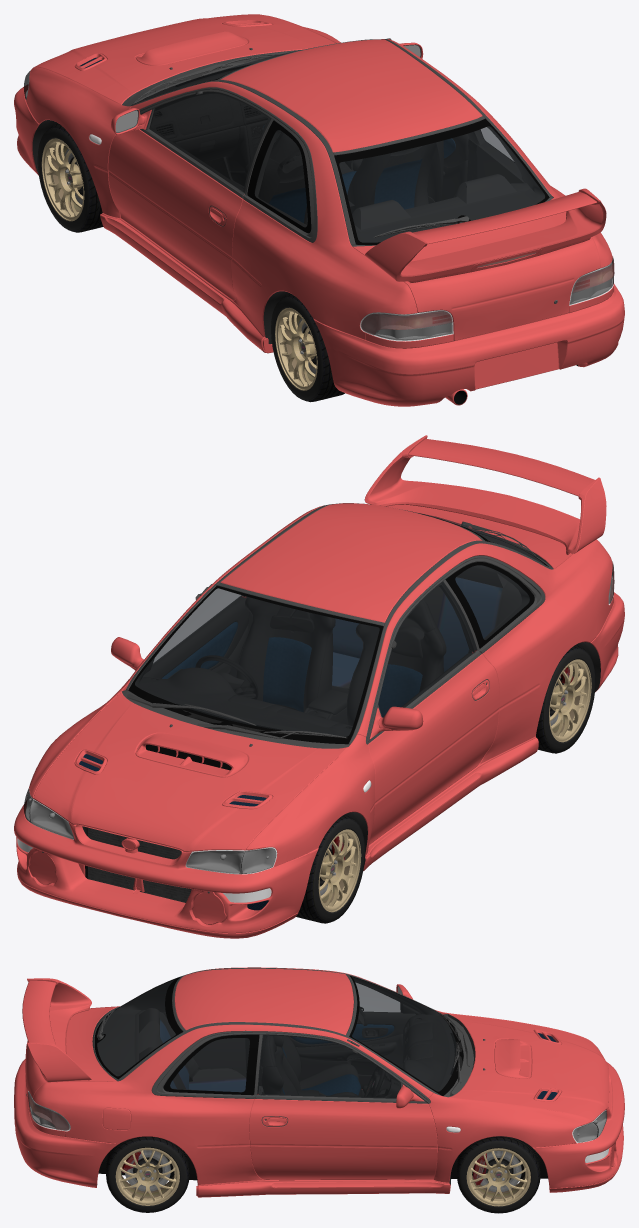
File: impreza_22b.glb
The picture shows the model from 3 angles, top to bottom: view 1: azimuth 30°, elevation 25°; view 2: azimuth 150°, elevation 25°; view 3: azimuth 270°, elevation 25°; orthographic projection. The views are drawn at different scales.
Visible parts, largest first — view 1: Body, Wheel_RL, Wheel_FL; view 2: Body, Wheel_FL, Wheel_RL, SteeringWheel; view 3: Body, Wheel_FR, Wheel_RR, SteeringWheel.
Boxes of the visible parts, box(x1,y1,x2,y2) form: Body: box(14, 14, 624, 406); Wheel_RL: box(271, 294, 344, 402); Wheel_FL: box(37, 124, 103, 232); Body: box(14, 435, 624, 938); Wheel_FL: box(296, 815, 365, 923); Wheel_RL: box(536, 645, 595, 753); SteeringWheel: box(195, 655, 258, 699); Body: box(14, 967, 624, 1197); Wheel_FR: box(457, 1136, 540, 1213); Wheel_RR: box(106, 1136, 189, 1212); SteeringWheel: box(366, 1066, 392, 1097).
Bounding box in the file's own units: 1.93 × 1.36 × 4.39.
21 materials, 16 textured.
